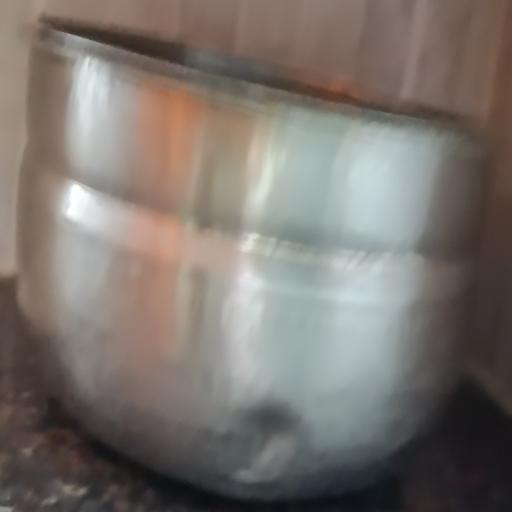vessel: (18, 19, 486, 499)
